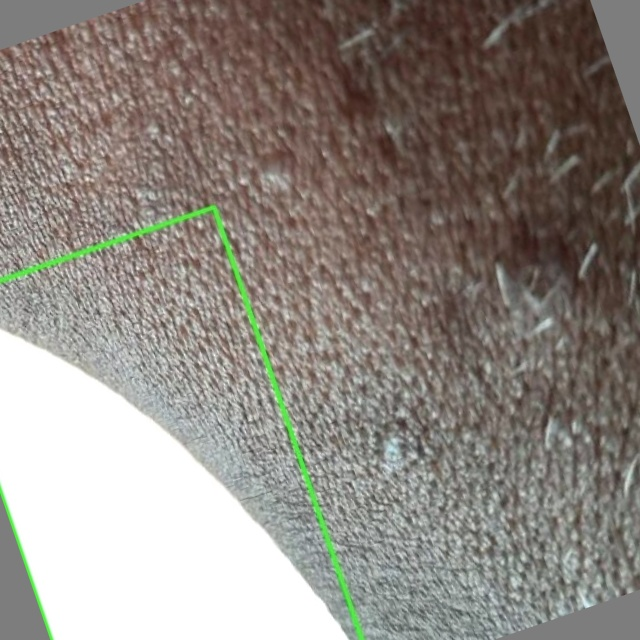Seborrheic Dermatitis: (0, 207, 362, 639)
